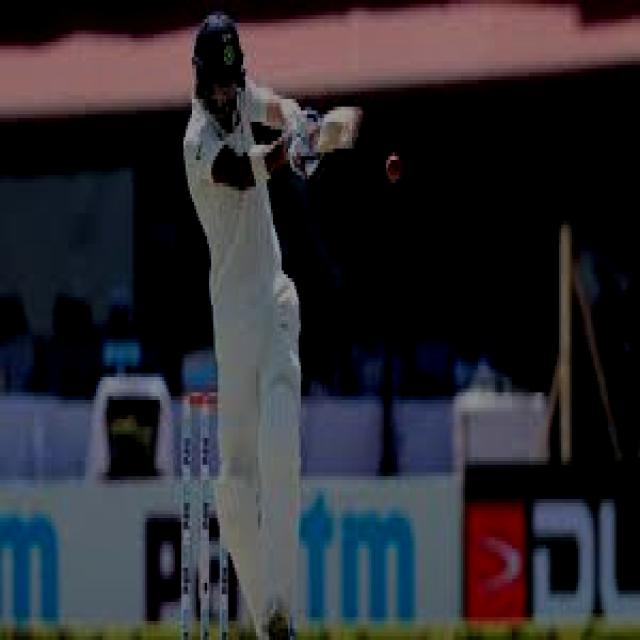toe: (339, 102, 360, 154)
